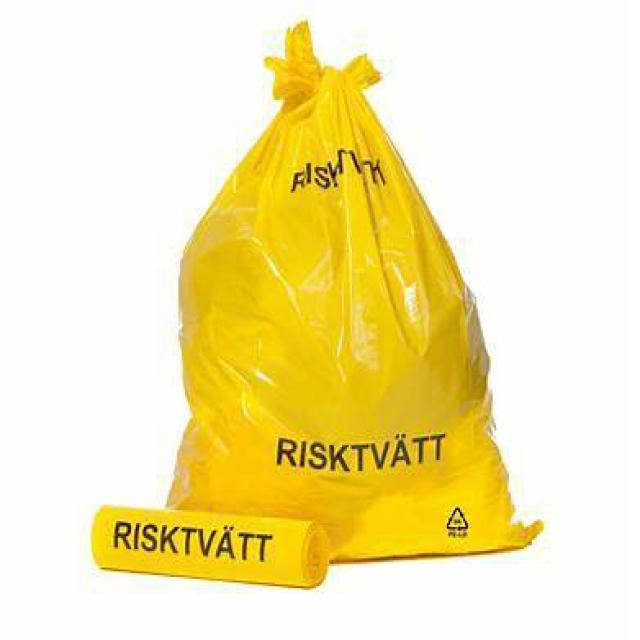waste: (174, 24, 526, 562)
